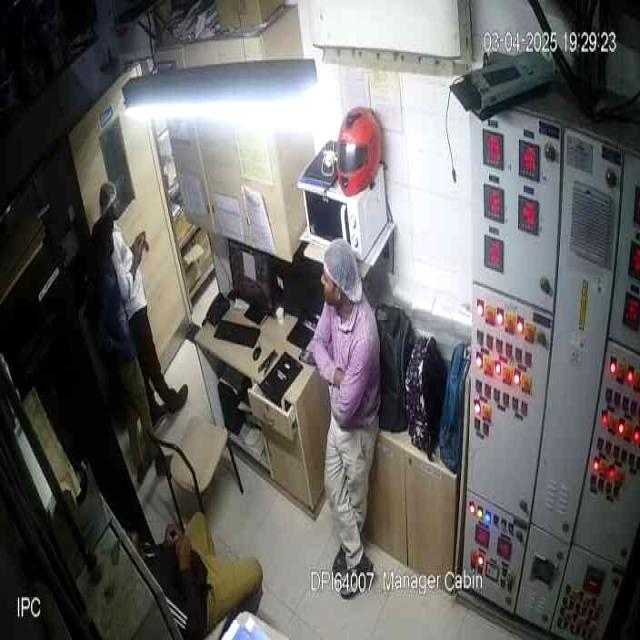helmet: (337, 105, 381, 196)
no_helmet: (321, 239, 365, 321), (99, 181, 117, 214)
